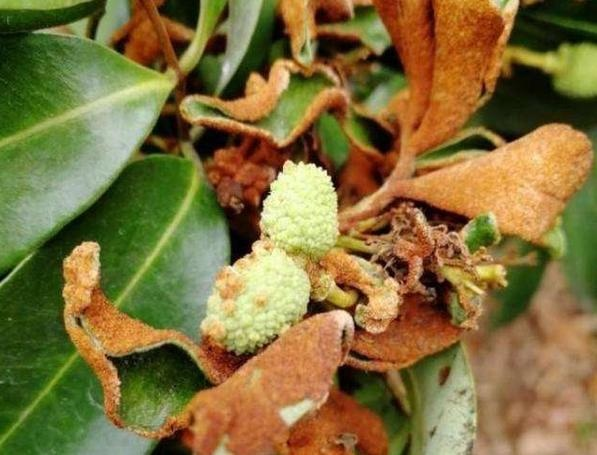Frost_Blight: (382, 0, 581, 226), (332, 98, 529, 313), (204, 320, 434, 450), (184, 5, 335, 197), (38, 235, 190, 417), (116, 7, 175, 66)
